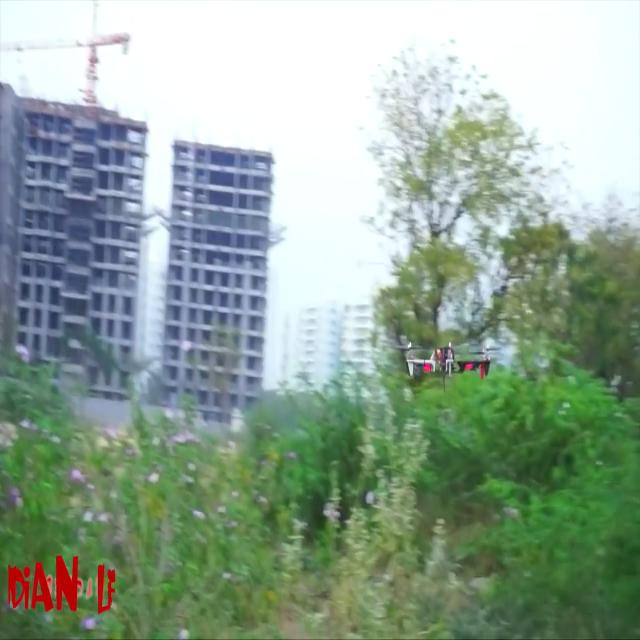drone: (378, 334, 506, 405)
